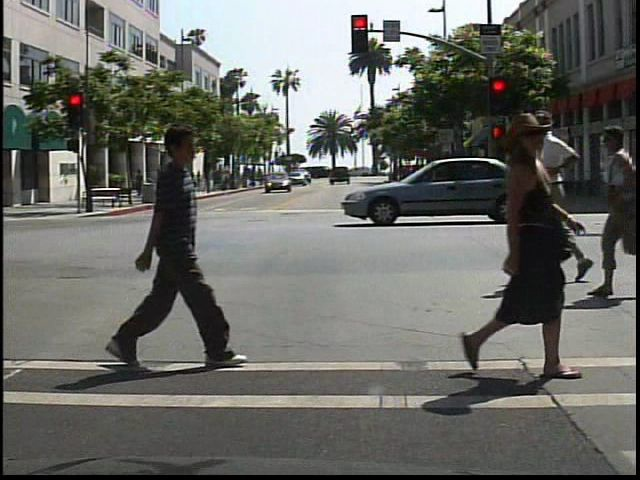person: (463, 108, 582, 379), (116, 119, 234, 369), (557, 115, 640, 304), (523, 111, 597, 295), (163, 157, 196, 219), (128, 163, 149, 211)
